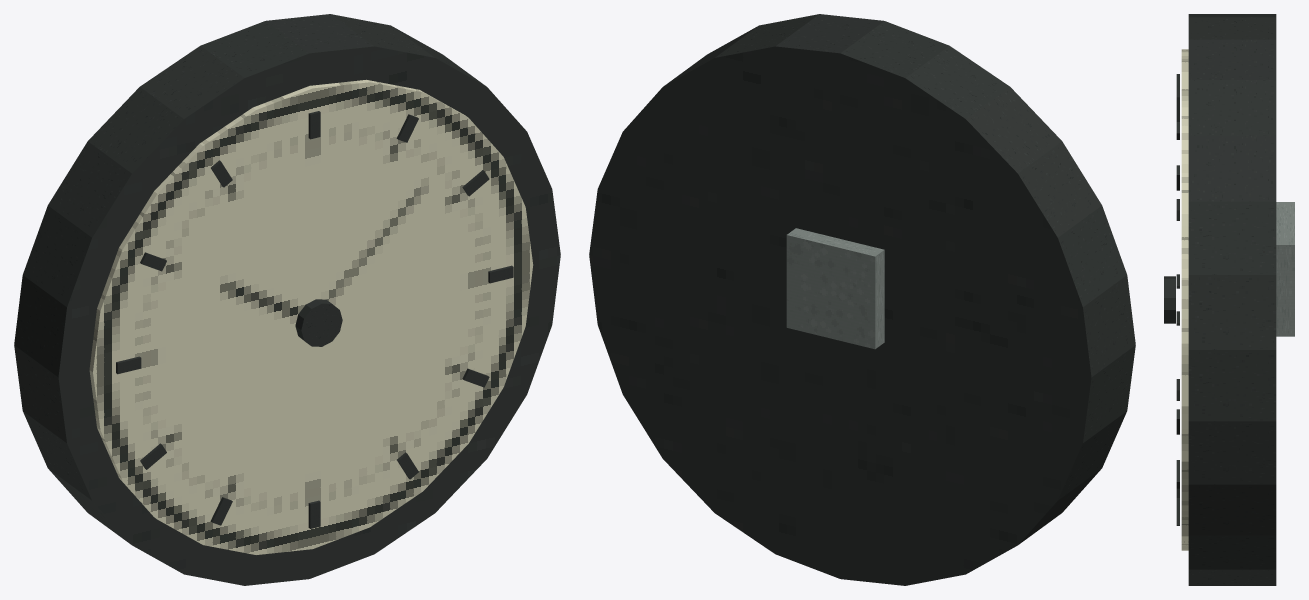
File: wall_clock_institutional.glb
3 views of the same model, side by side, from view 1: azimuth 30°, elevation 25°; view 2: azimuth 150°, elevation 25°; view 3: azimuth 270°, elevation 25° (orthographic).
Visible parts, largest first — view 1: wall_clock_institutional; view 2: wall_clock_institutional; view 3: wall_clock_institutional.
Part boxes in pixels (<box>): wall_clock_institutional: <box>14,14,560,585</box>; wall_clock_institutional: <box>589,14,1135,585</box>; wall_clock_institutional: <box>1164,14,1294,585</box>.
Bounding box in the file's own units: 0.34 × 0.34 × 0.0775.
Materials: 3 (3 with a texture image).
